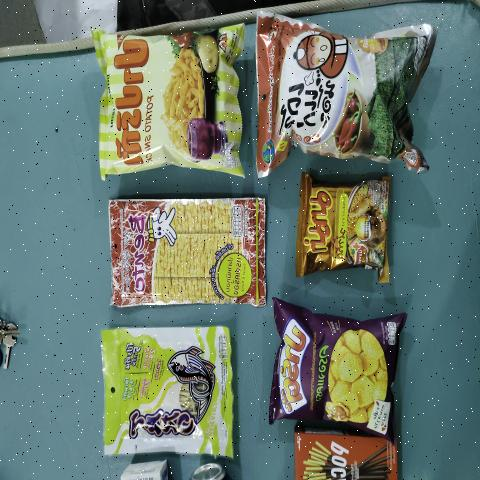bento_red: (116, 200, 262, 300)
mama: (301, 183, 385, 271)
paprika: (106, 39, 240, 168)
party_purple: (271, 323, 395, 416)
taokaenoi: (262, 33, 420, 162)
taro_yellow: (107, 330, 229, 452)
